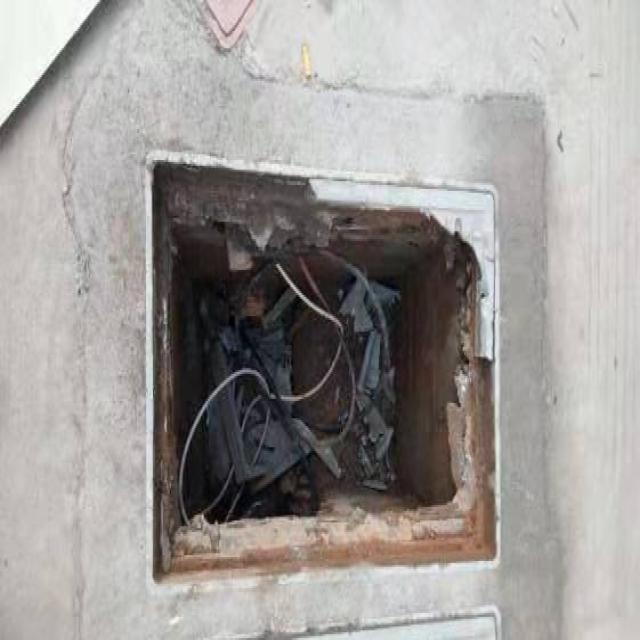Faulty: (144, 146, 502, 592)
